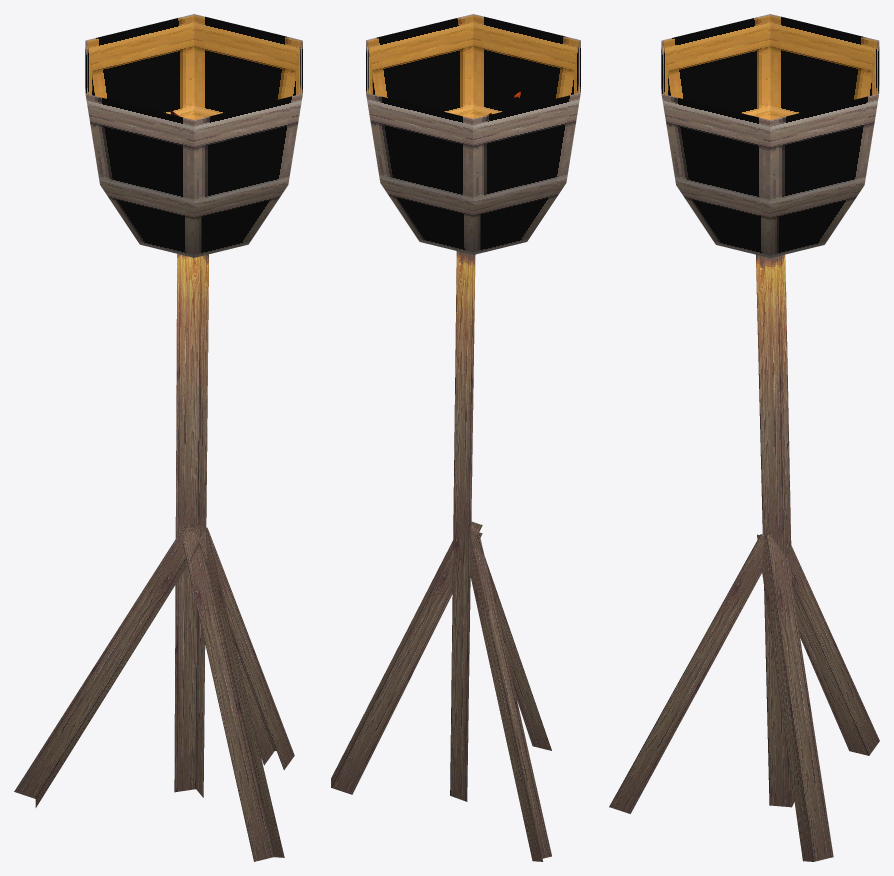
Rendered from stage-maya-p11-78.glb.
The picture shows the model from 3 angles, left to right: view 1: azimuth 30°, elevation 25°; view 2: azimuth 150°, elevation 25°; view 3: azimuth 270°, elevation 25°; orthographic projection.
Size of the model in its own units: 1.11 by 3.19 by 1.05.
4 materials, 4 textured.
